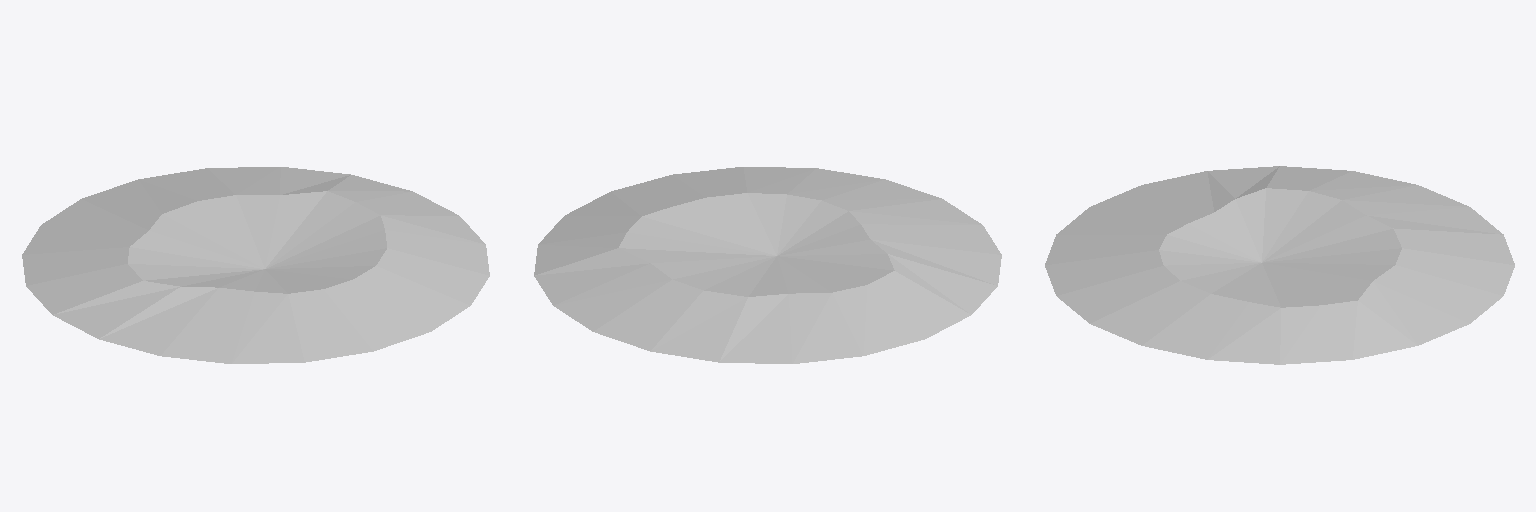
The model's file is Pond.obj.
3 renders of one model, left to right at view 1: azimuth 30°, elevation 25°; view 2: azimuth 150°, elevation 25°; view 3: azimuth 270°, elevation 25°, orthographic.
Visible parts, largest first — view 1: pCylinder1; view 2: pCylinder1; view 3: pCylinder1.
Part boxes in pixels (left/top/right/bottom): pCylinder1: left=22, top=167, right=489, bottom=363; pCylinder1: left=534, top=167, right=1001, bottom=363; pCylinder1: left=1045, top=166, right=1514, bottom=364.
Size of the model in its own units: 55.72 by 2.47 by 55.72.